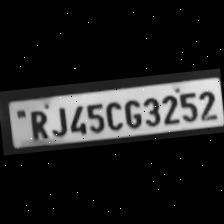2: (194, 87, 218, 121), (158, 92, 180, 126)
3: (140, 94, 160, 128)
4: (65, 102, 86, 136)
5: (176, 88, 198, 124), (82, 100, 105, 134)
C: (102, 97, 124, 131)
G: (122, 96, 142, 130)
J: (46, 103, 68, 138)
R: (26, 106, 50, 142)
